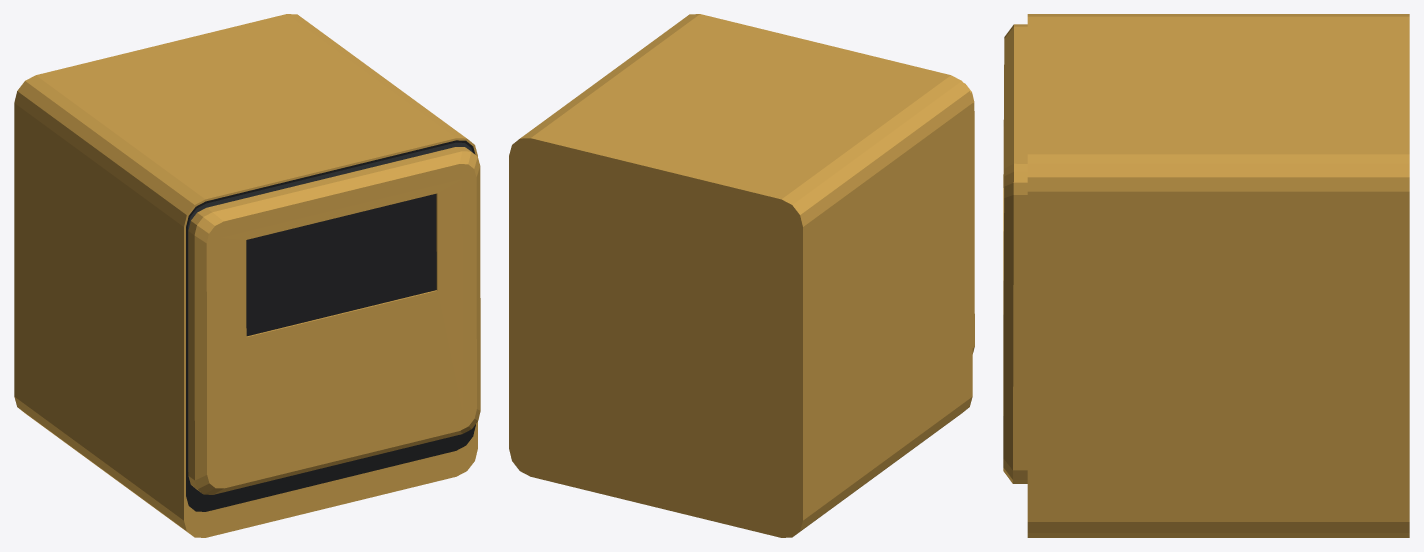
Rendered from Tabledishwasher_01_D.gltf.
3 views of the same model, side by side, from view 1: azimuth 30°, elevation 25°; view 2: azimuth 150°, elevation 25°; view 3: azimuth 270°, elevation 25° (orthographic). The views are drawn at different scales.
Parts seen in each view (by area): view 1: Tabledishwasher_01_D, DoorTabledishwasher_01_D; view 2: Tabledishwasher_01_D, DoorTabledishwasher_01_D; view 3: Tabledishwasher_01_D, DoorTabledishwasher_01_D.
Part boxes in pixels (left/top/right/bottom): Tabledishwasher_01_D: left=14, top=14, right=477, bottom=537; DoorTabledishwasher_01_D: left=188, top=147, right=480, bottom=494; Tabledishwasher_01_D: left=509, top=14, right=972, bottom=537; DoorTabledishwasher_01_D: left=964, top=83, right=974, bottom=353; Tabledishwasher_01_D: left=1027, top=14, right=1409, bottom=537; DoorTabledishwasher_01_D: left=1003, top=24, right=1027, bottom=483.
Bounding box in the file's own units: 0.5998 × 0.6603 × 0.6381.
1 material, 1 textured.
